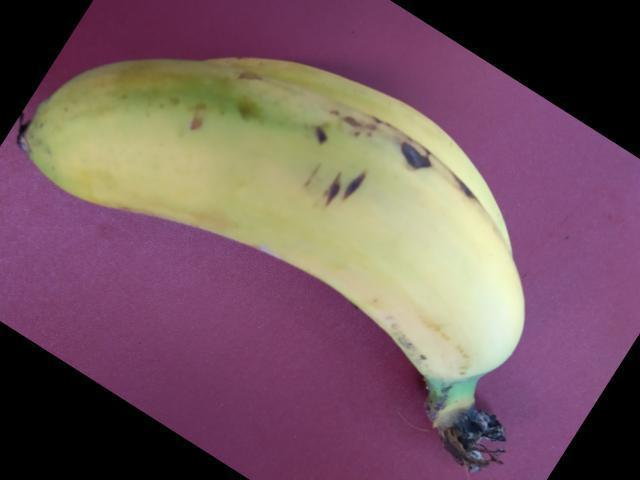ripe: (46, 78, 518, 408)
